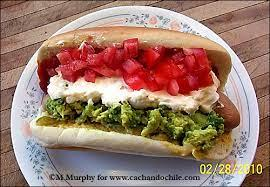Completos: (36, 29, 239, 163)
